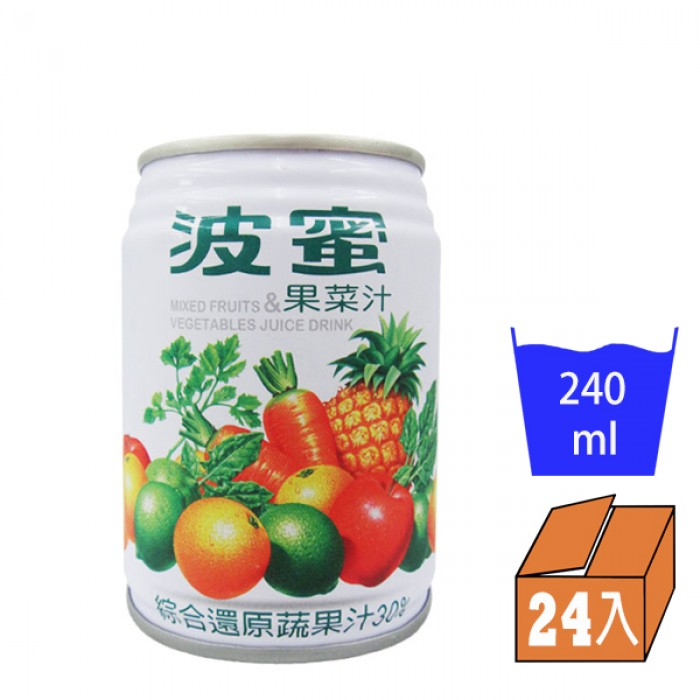vegetables juice: (117, 152, 433, 638)
